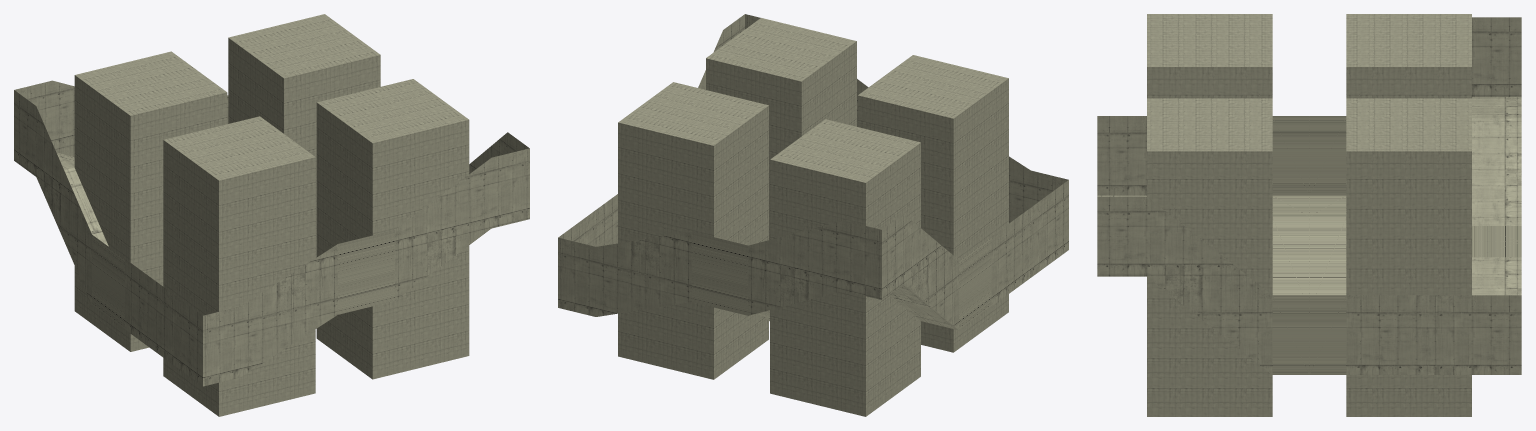
Rendered from SM_NeoLD_13_Block_00.fbx.
The picture shows the model from 3 angles, left to right: view 1: azimuth 30°, elevation 25°; view 2: azimuth 150°, elevation 25°; view 3: azimuth 270°, elevation 25°; orthographic projection. The views are drawn at different scales.
Visible parts, largest first — view 1: SM_NeoLD_13_Block_00; view 2: SM_NeoLD_13_Block_00; view 3: SM_NeoLD_13_Block_00.
Part boxes in pixels (x1,y1,x2,y2): SM_NeoLD_13_Block_00: [14, 14, 529, 416]; SM_NeoLD_13_Block_00: [558, 14, 1068, 416]; SM_NeoLD_13_Block_00: [1097, 14, 1521, 416].
Bounding box in the file's own units: 4180 × 2887 × 4180.
